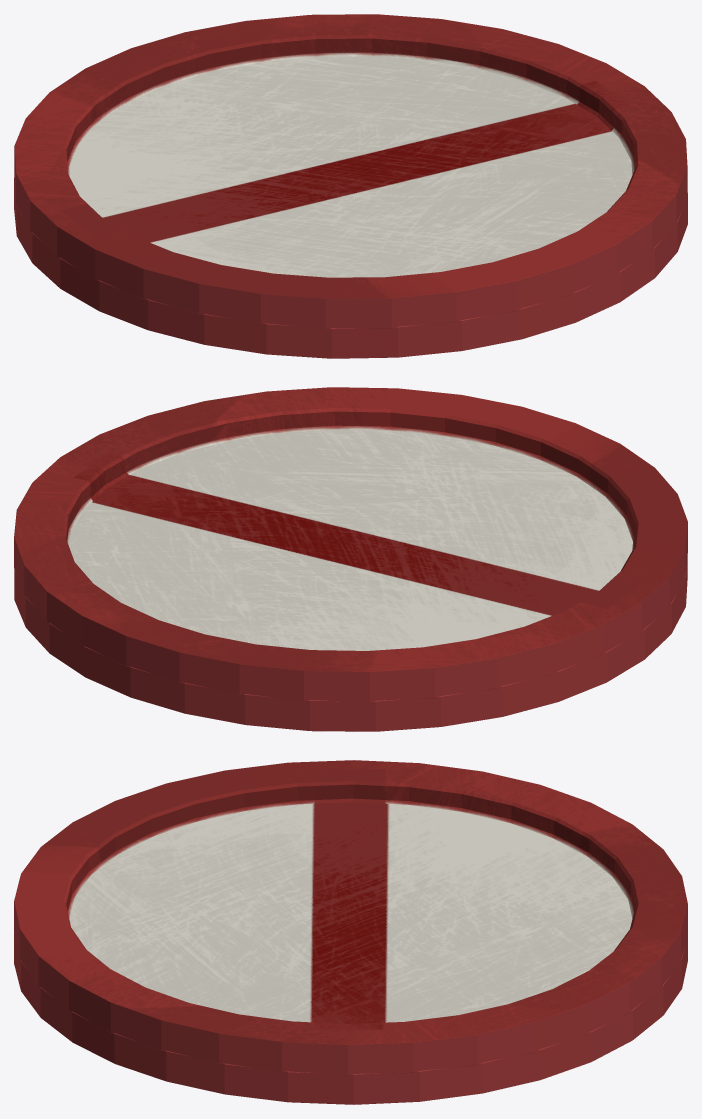
The model's file is death.fbx.
3 renders of one model, top to bottom at view 1: azimuth 30°, elevation 25°; view 2: azimuth 150°, elevation 25°; view 3: azimuth 270°, elevation 25°, orthographic.
Parts seen in each view (by area): view 1: Cylinder.011; view 2: Cylinder.011; view 3: Cylinder.011.
Boxes of the visible parts, box(x1,y1,x2,y2) form: Cylinder.011: box(14, 14, 687, 358); Cylinder.011: box(14, 387, 687, 731); Cylinder.011: box(14, 760, 687, 1104).
Size of the model in its own units: 200 by 19.67 by 200.
